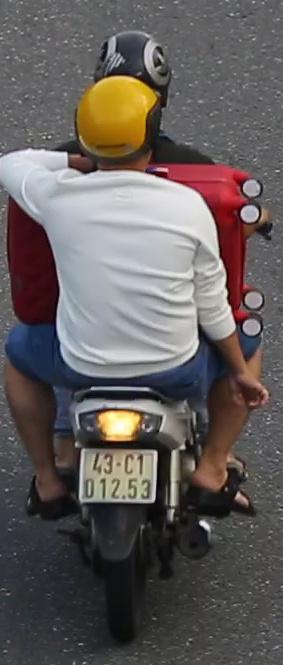LP: (77, 445, 161, 511)
helmet: (70, 76, 166, 188), (105, 27, 176, 97)
